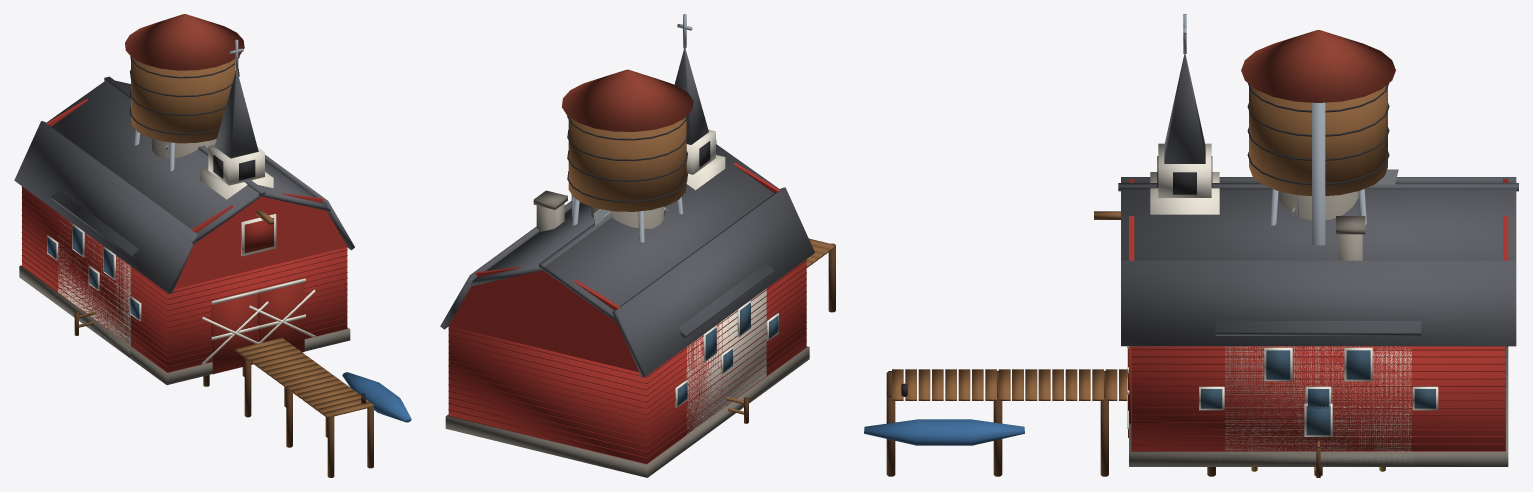
The model's file is airscenery.glb.
3 renders of one model, left to right at view 1: azimuth 30°, elevation 25°; view 2: azimuth 150°, elevation 25°; view 3: azimuth 270°, elevation 25°, orthographic. The views are drawn at different scales.
Visible parts, largest first — view 1: as_barn, as_watertower, as_jetty, as_farmhouse, as_chapel, as_silo; view 2: as_barn, as_watertower, as_farmhouse, as_chapel, as_jetty, as_silo; view 3: as_barn, as_watertower, as_farmhouse, as_jetty, as_chapel, as_silo.
Part boxes in pixels (box(x1,y1,x2,y2)): as_barn: box(14, 76, 354, 384); as_watertower: box(125, 14, 244, 171); as_jetty: box(203, 337, 411, 477); as_farmhouse: box(51, 190, 138, 357); as_chapel: box(199, 39, 273, 199); as_silo: box(151, 138, 216, 158); as_barn: box(440, 140, 814, 477); as_watertower: box(562, 69, 693, 242); as_farmhouse: box(533, 190, 774, 448); as_chapel: box(674, 14, 725, 190); as_jetty: box(806, 238, 835, 312); as_silo: box(591, 206, 663, 228); as_barn: box(1094, 177, 1518, 466); as_watertower: box(1241, 30, 1395, 245); as_farmhouse: box(1215, 216, 1421, 466); as_jetty: box(864, 369, 1322, 476); as_chapel: box(1150, 14, 1219, 214); as_silo: box(1278, 191, 1358, 220).
Bounding box in the file's own units: 12.16 × 18.5 × 24.51.
